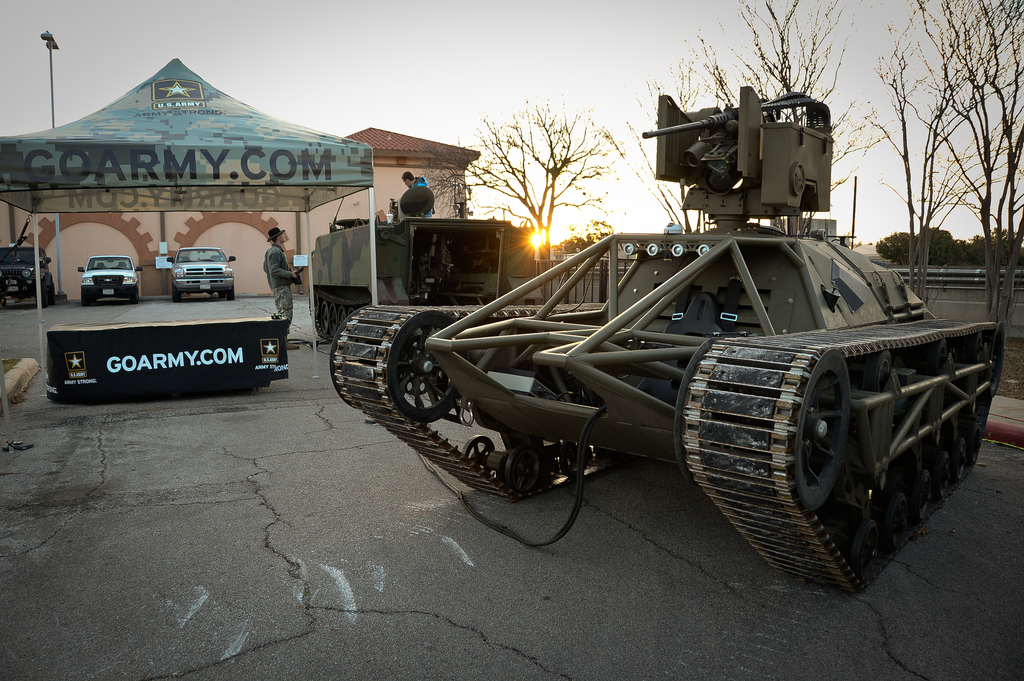car: (163, 239, 243, 305), (75, 242, 144, 308), (0, 241, 61, 311)
